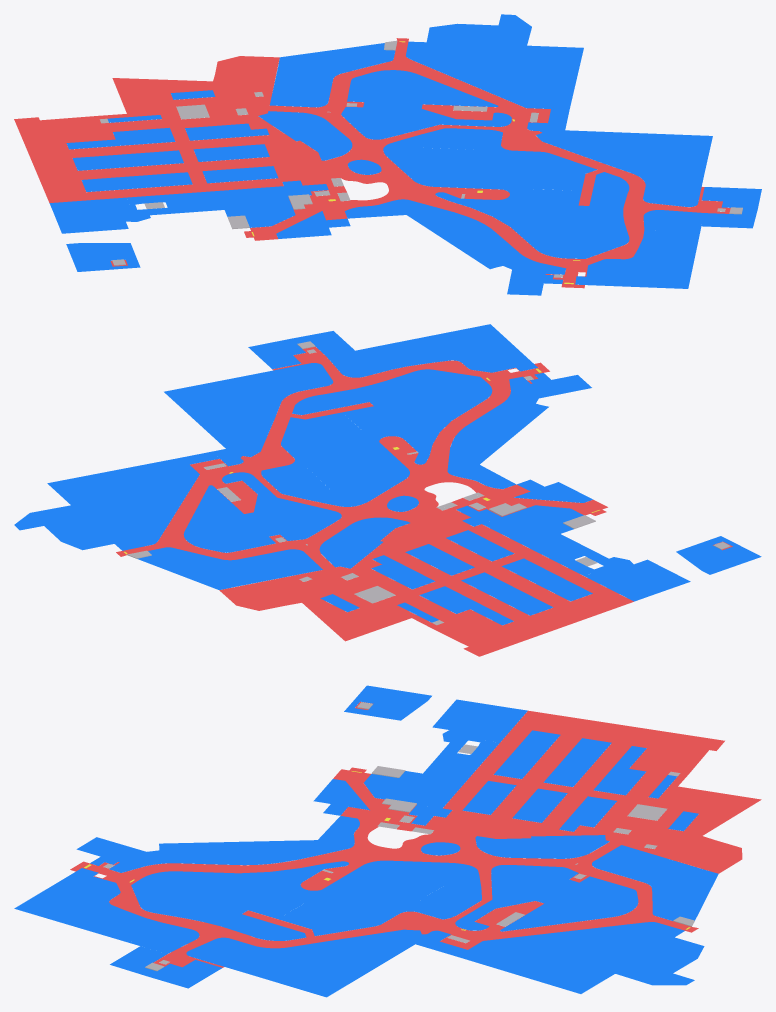
The model's file is plan.glb.
The picture shows the model from 3 angles, top to bottom: view 1: azimuth 30°, elevation 25°; view 2: azimuth 150°, elevation 25°; view 3: azimuth 270°, elevation 25°; orthographic projection. The views are drawn at different scales.
Visible parts, largest first — view 1: Units.001, FloorSlabs, meshP219-001-001-001, meshP205-001-001-001, meshP203-001-001-001, meshP204-001-001-001, meshP206-001-001-001, meshP202-001-001-001, meshP211-001-001-001, meshP209-001-001-001, meshP208-001-001-001, meshP218-001-001-001 (+3 smaller); view 2: Units.001, FloorSlabs, meshP219-001-001-001, meshP203-001-001-001, meshP205-001-001-001, meshP204-001-001-001, meshP202-001-001-001, meshP206-001-001-001, meshP211-001-001-001; view 3: Units.001, FloorSlabs, meshP219-001-001-001, meshP205-001-001-001, meshP203-001-001-001, meshP204-001-001-001, meshP206-001-001-001, meshP202-001-001-001, meshP211-001-001-001, meshP218-001-001-001, meshP208-001-001-001, meshP209-001-001-001.
Part boxes in pixels (x1,y1,x2,y2): Units.001: (53,14,761,295); FloorSlabs: (14,38,730,288); meshP219-001-001-001: (189,186,286,200); meshP205-001-001-001: (66,135,175,149); meshP203-001-001-001: (75,156,183,170); meshP204-001-001-001: (72,150,181,164); meshP206-001-001-001: (81,172,189,185); meshP202-001-001-001: (84,178,192,191); meshP211-001-001-001: (187,128,269,140); meshP209-001-001-001: (193,144,267,155); meshP208-001-001-001: (196,150,269,161); meshP218-001-001-001: (127,193,191,204); Units.001: (14,324,761,596); FloorSlabs: (116,346,633,656); meshP219-001-001-001: (482,519,556,555); meshP203-001-001-001: (473,572,553,611); meshP205-001-001-001: (433,586,513,625); meshP204-001-001-001: (461,576,541,615); meshP202-001-001-001: (513,558,592,597); meshP206-001-001-001: (502,562,581,601); meshP211-001-001-001: (372,555,435,585); Units.001: (14,685,718,997); FloorSlabs: (70,710,761,967); meshP219-001-001-001: (425,766,476,808); meshP205-001-001-001: (593,746,646,792); meshP203-001-001-001: (543,738,596,784); meshP204-001-001-001: (558,740,611,786); meshP206-001-001-001: (508,732,560,778); meshP202-001-001-001: (494,730,546,776); meshP211-001-001-001: (559,796,602,831); meshP218-001-001-001: (460,740,499,768); meshP208-001-001-001: (512,788,552,820); meshP209-001-001-001: (527,791,567,822).
Size of the model in its own units: 193 by 0.3815 by 195.
